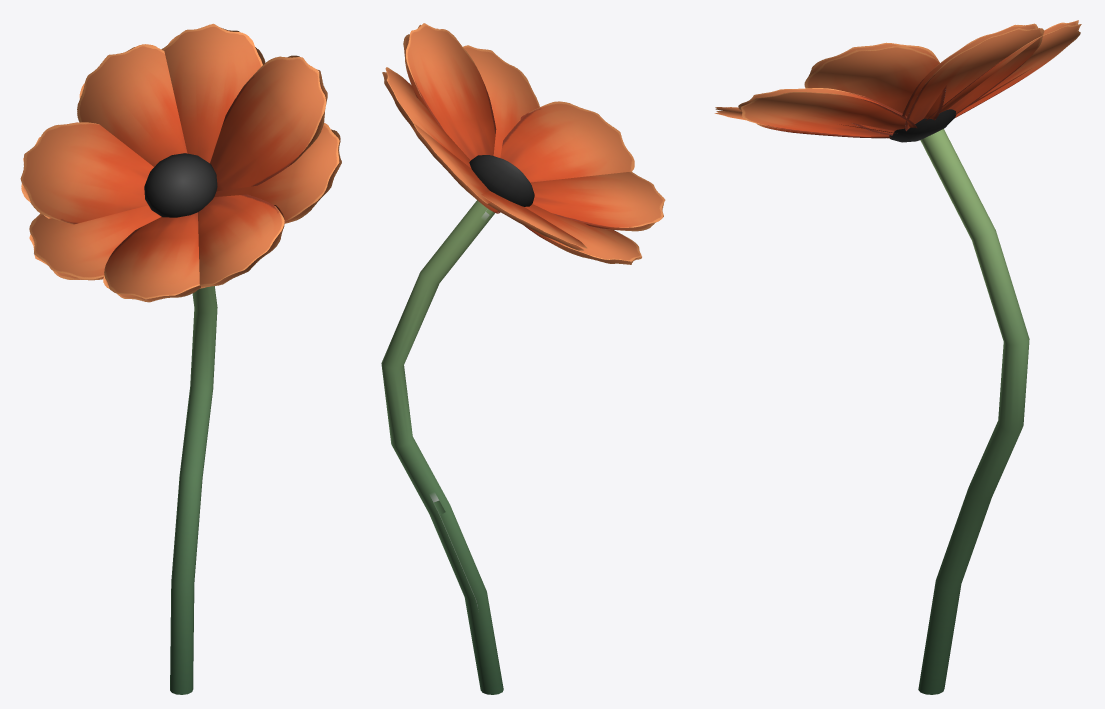
Rendered from Czerwony_Kwiat_Naprawiony.fbx.
The picture shows the model from 3 angles, left to right: view 1: azimuth 30°, elevation 25°; view 2: azimuth 150°, elevation 25°; view 3: azimuth 270°, elevation 25°; orthographic projection. The views are drawn at different scales.
Visible parts, largest first — view 1: Red Flower.008, Red Flower.001, Red Flower, Red Flower.007, Red Flower.002, Red Flower.004, Red Flower.009, Red Flower.006, Red Flower.003, Red Flower.005; view 2: Red Flower, Red Flower.009, Red Flower.008, Red Flower.004, Red Flower.003, Red Flower.006, Red Flower.002, Red Flower.005, Red Flower.007, Red Flower.001; view 3: Red Flower, Red Flower.008, Red Flower.003, Red Flower.002, Red Flower.007, Red Flower.005.
Part boxes in pixels (x1,y1,x2,y2): Red Flower.008: [210, 55, 327, 191]; Red Flower.001: [20, 122, 153, 224]; Red Flower: [170, 286, 217, 694]; Red Flower.007: [77, 44, 187, 166]; Red Flower.002: [161, 23, 265, 163]; Red Flower.004: [103, 212, 200, 302]; Red Flower.009: [198, 194, 284, 288]; Red Flower.006: [29, 205, 161, 280]; Red Flower.003: [214, 123, 341, 223]; Red Flower.005: [144, 153, 217, 217]; Red Flower: [381, 200, 503, 694]; Red Flower.009: [500, 101, 634, 182]; Red Flower.008: [403, 23, 496, 160]; Red Flower.004: [530, 171, 665, 231]; Red Flower.003: [463, 45, 539, 157]; Red Flower.006: [523, 204, 641, 264]; Red Flower.002: [382, 67, 471, 168]; Red Flower.005: [469, 155, 534, 206]; Red Flower.007: [410, 123, 500, 213]; Red Flower.001: [481, 191, 587, 250]; Red Flower: [918, 129, 1029, 694]; Red Flower.008: [804, 42, 946, 135]; Red Flower.003: [738, 88, 917, 136]; Red Flower.002: [902, 23, 1044, 131]; Red Flower.007: [926, 20, 1081, 120]; Red Flower.005: [889, 109, 956, 142].
Size of the model in its own units: 78.41 by 179 by 88.66.
